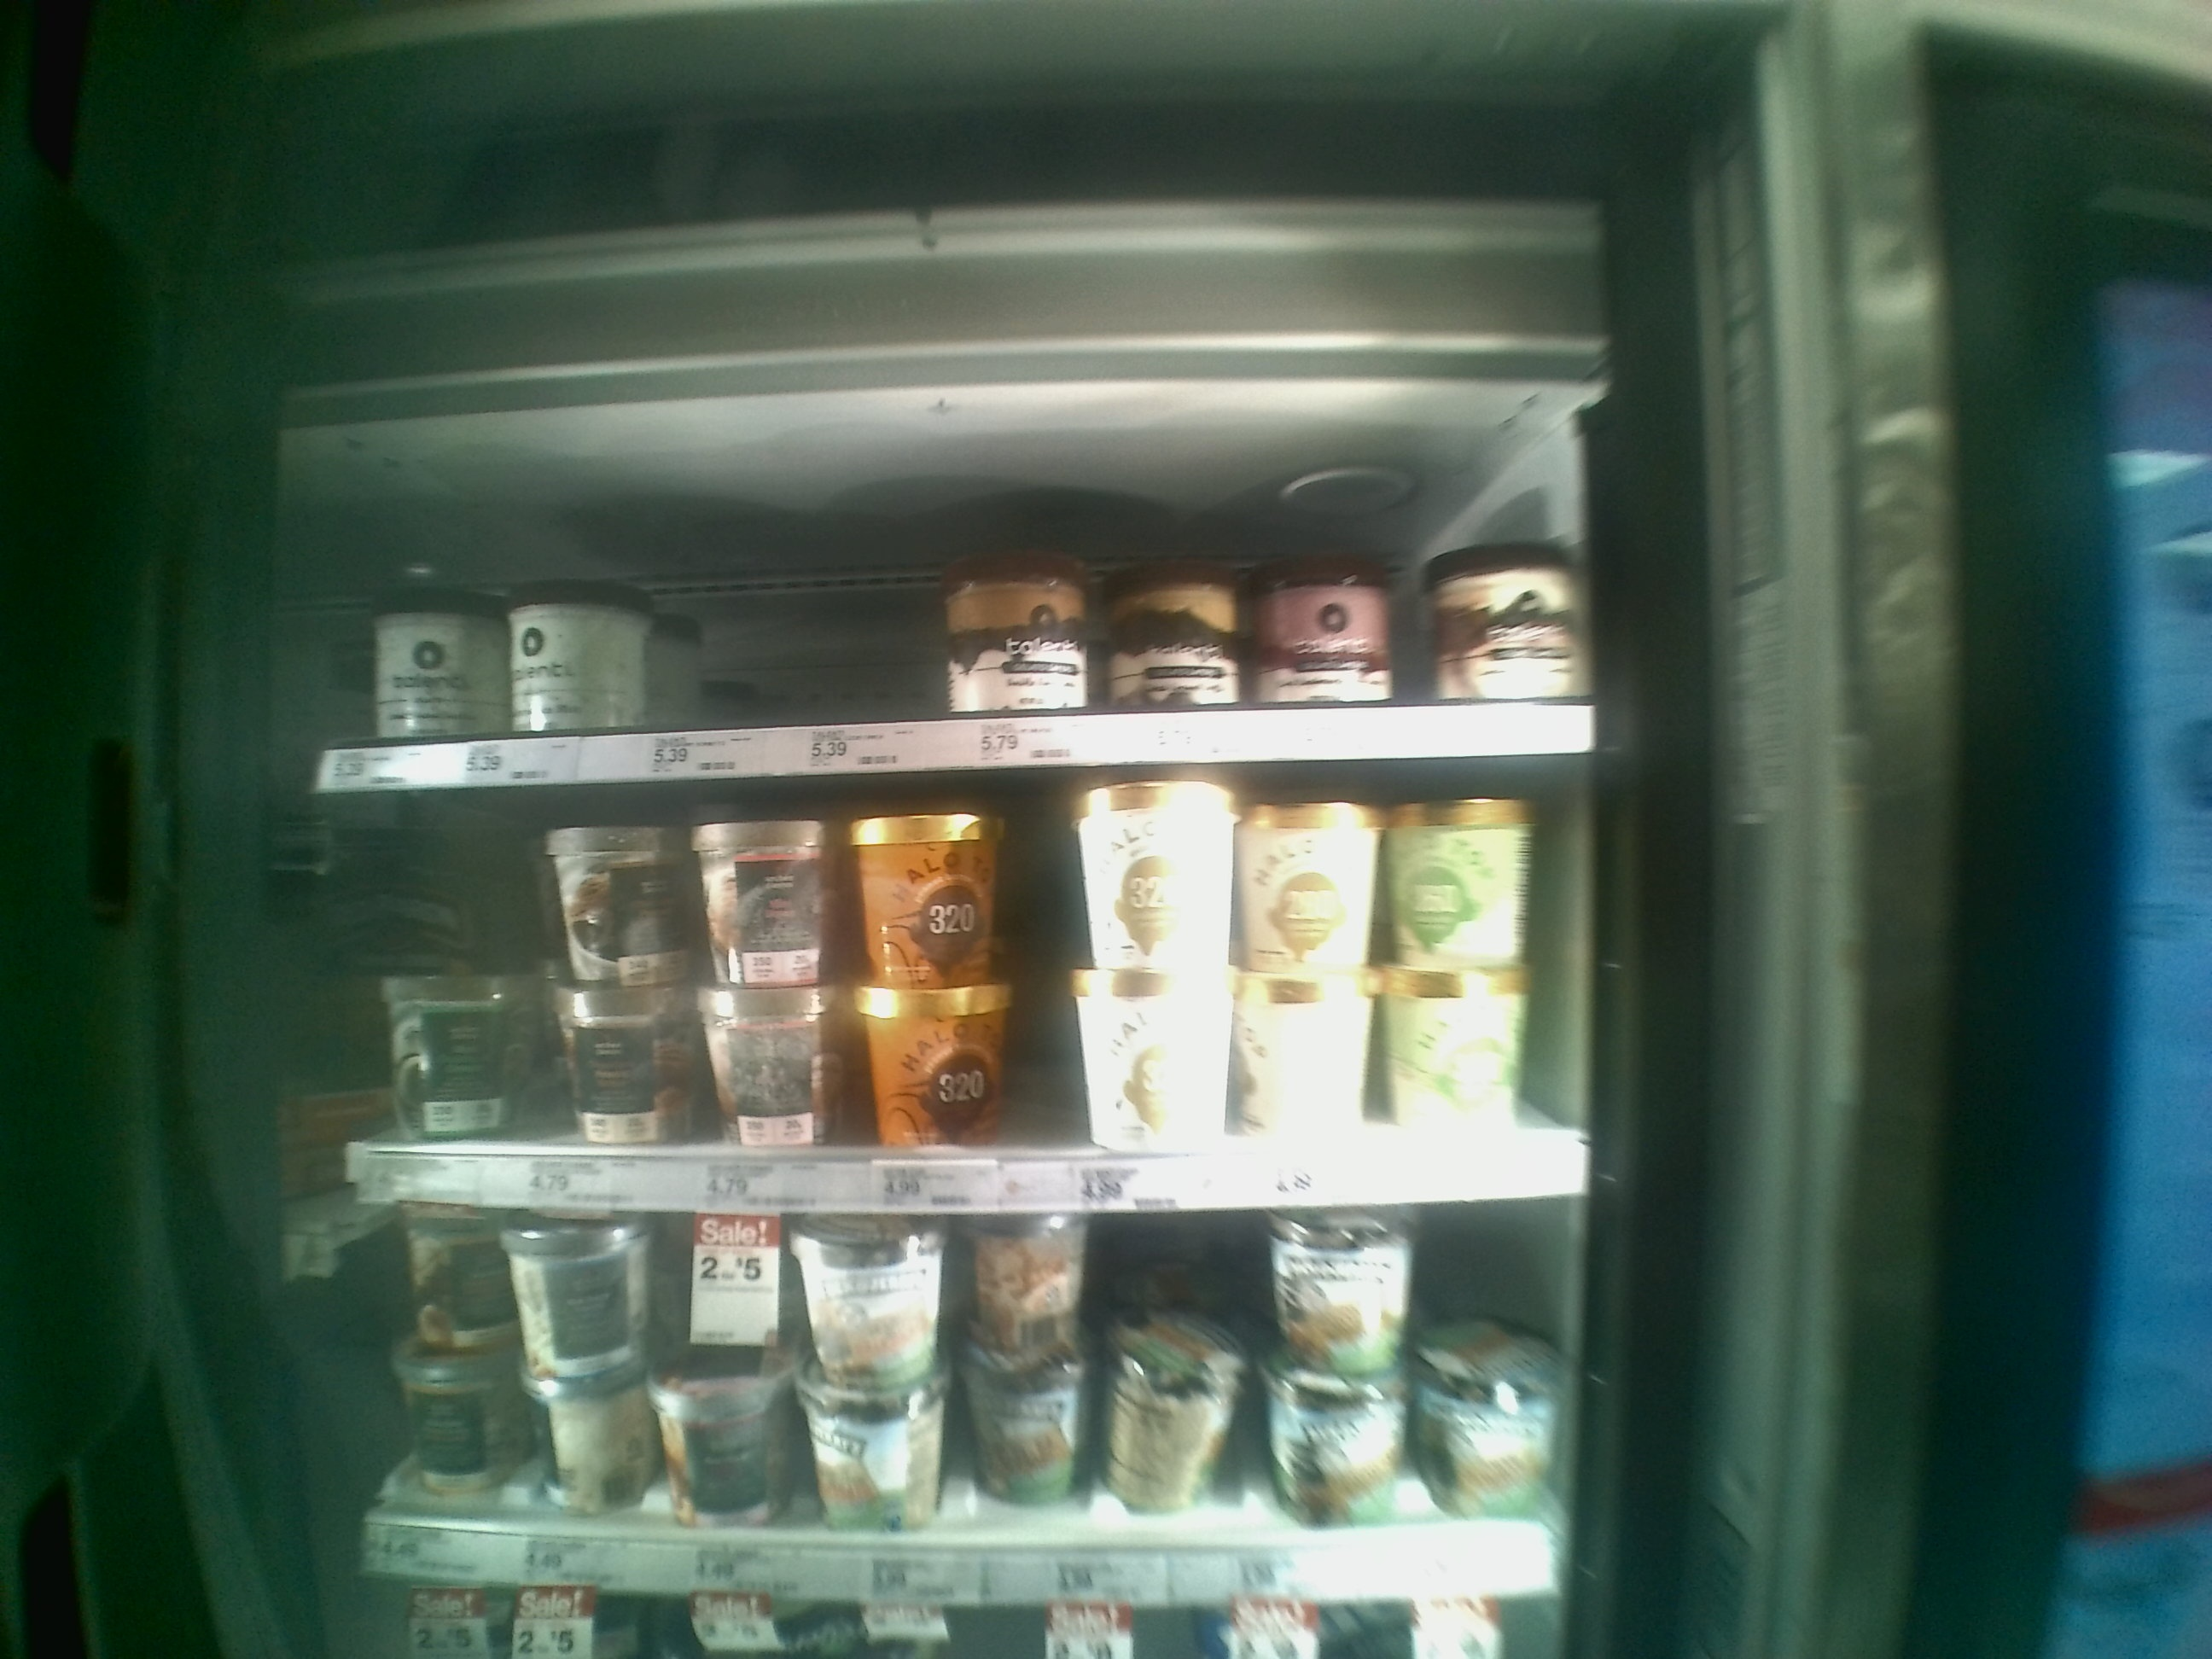ice-cream-shelf: (326, 763, 1606, 1208), (315, 1208, 1587, 1607), (324, 446, 1604, 758)
